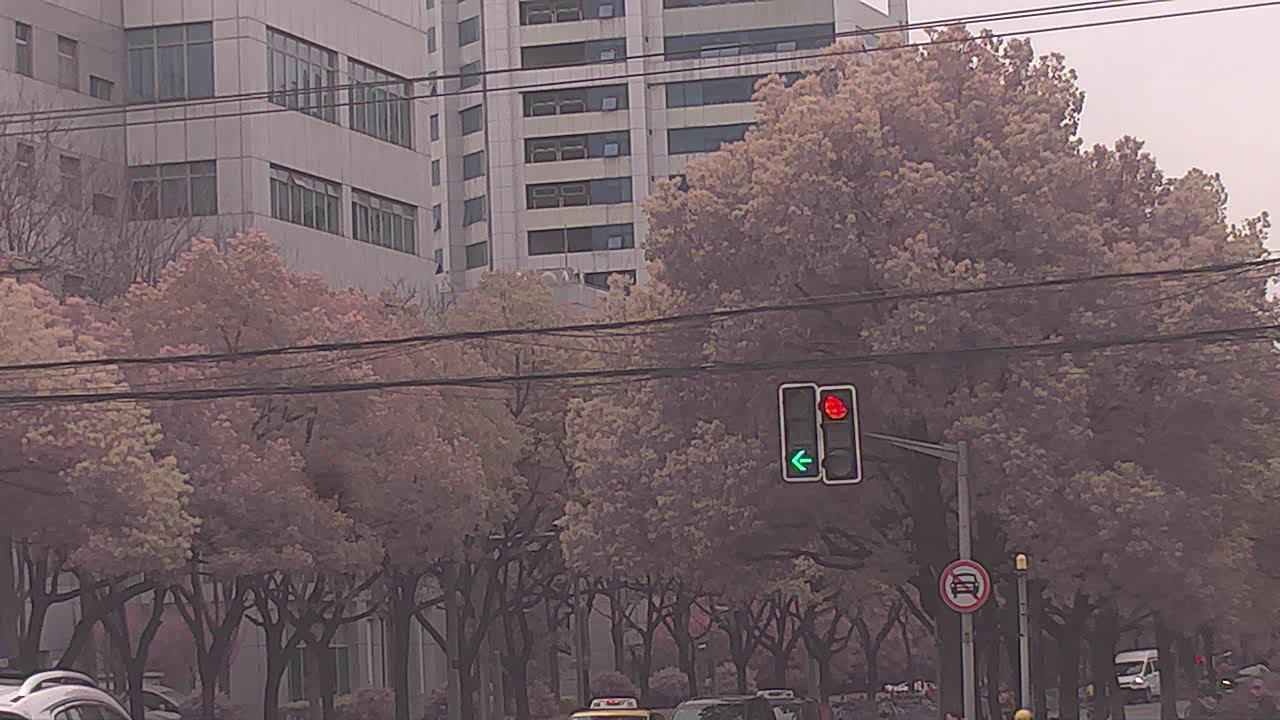traffic_light: (818, 388, 859, 481), (780, 387, 816, 479)
